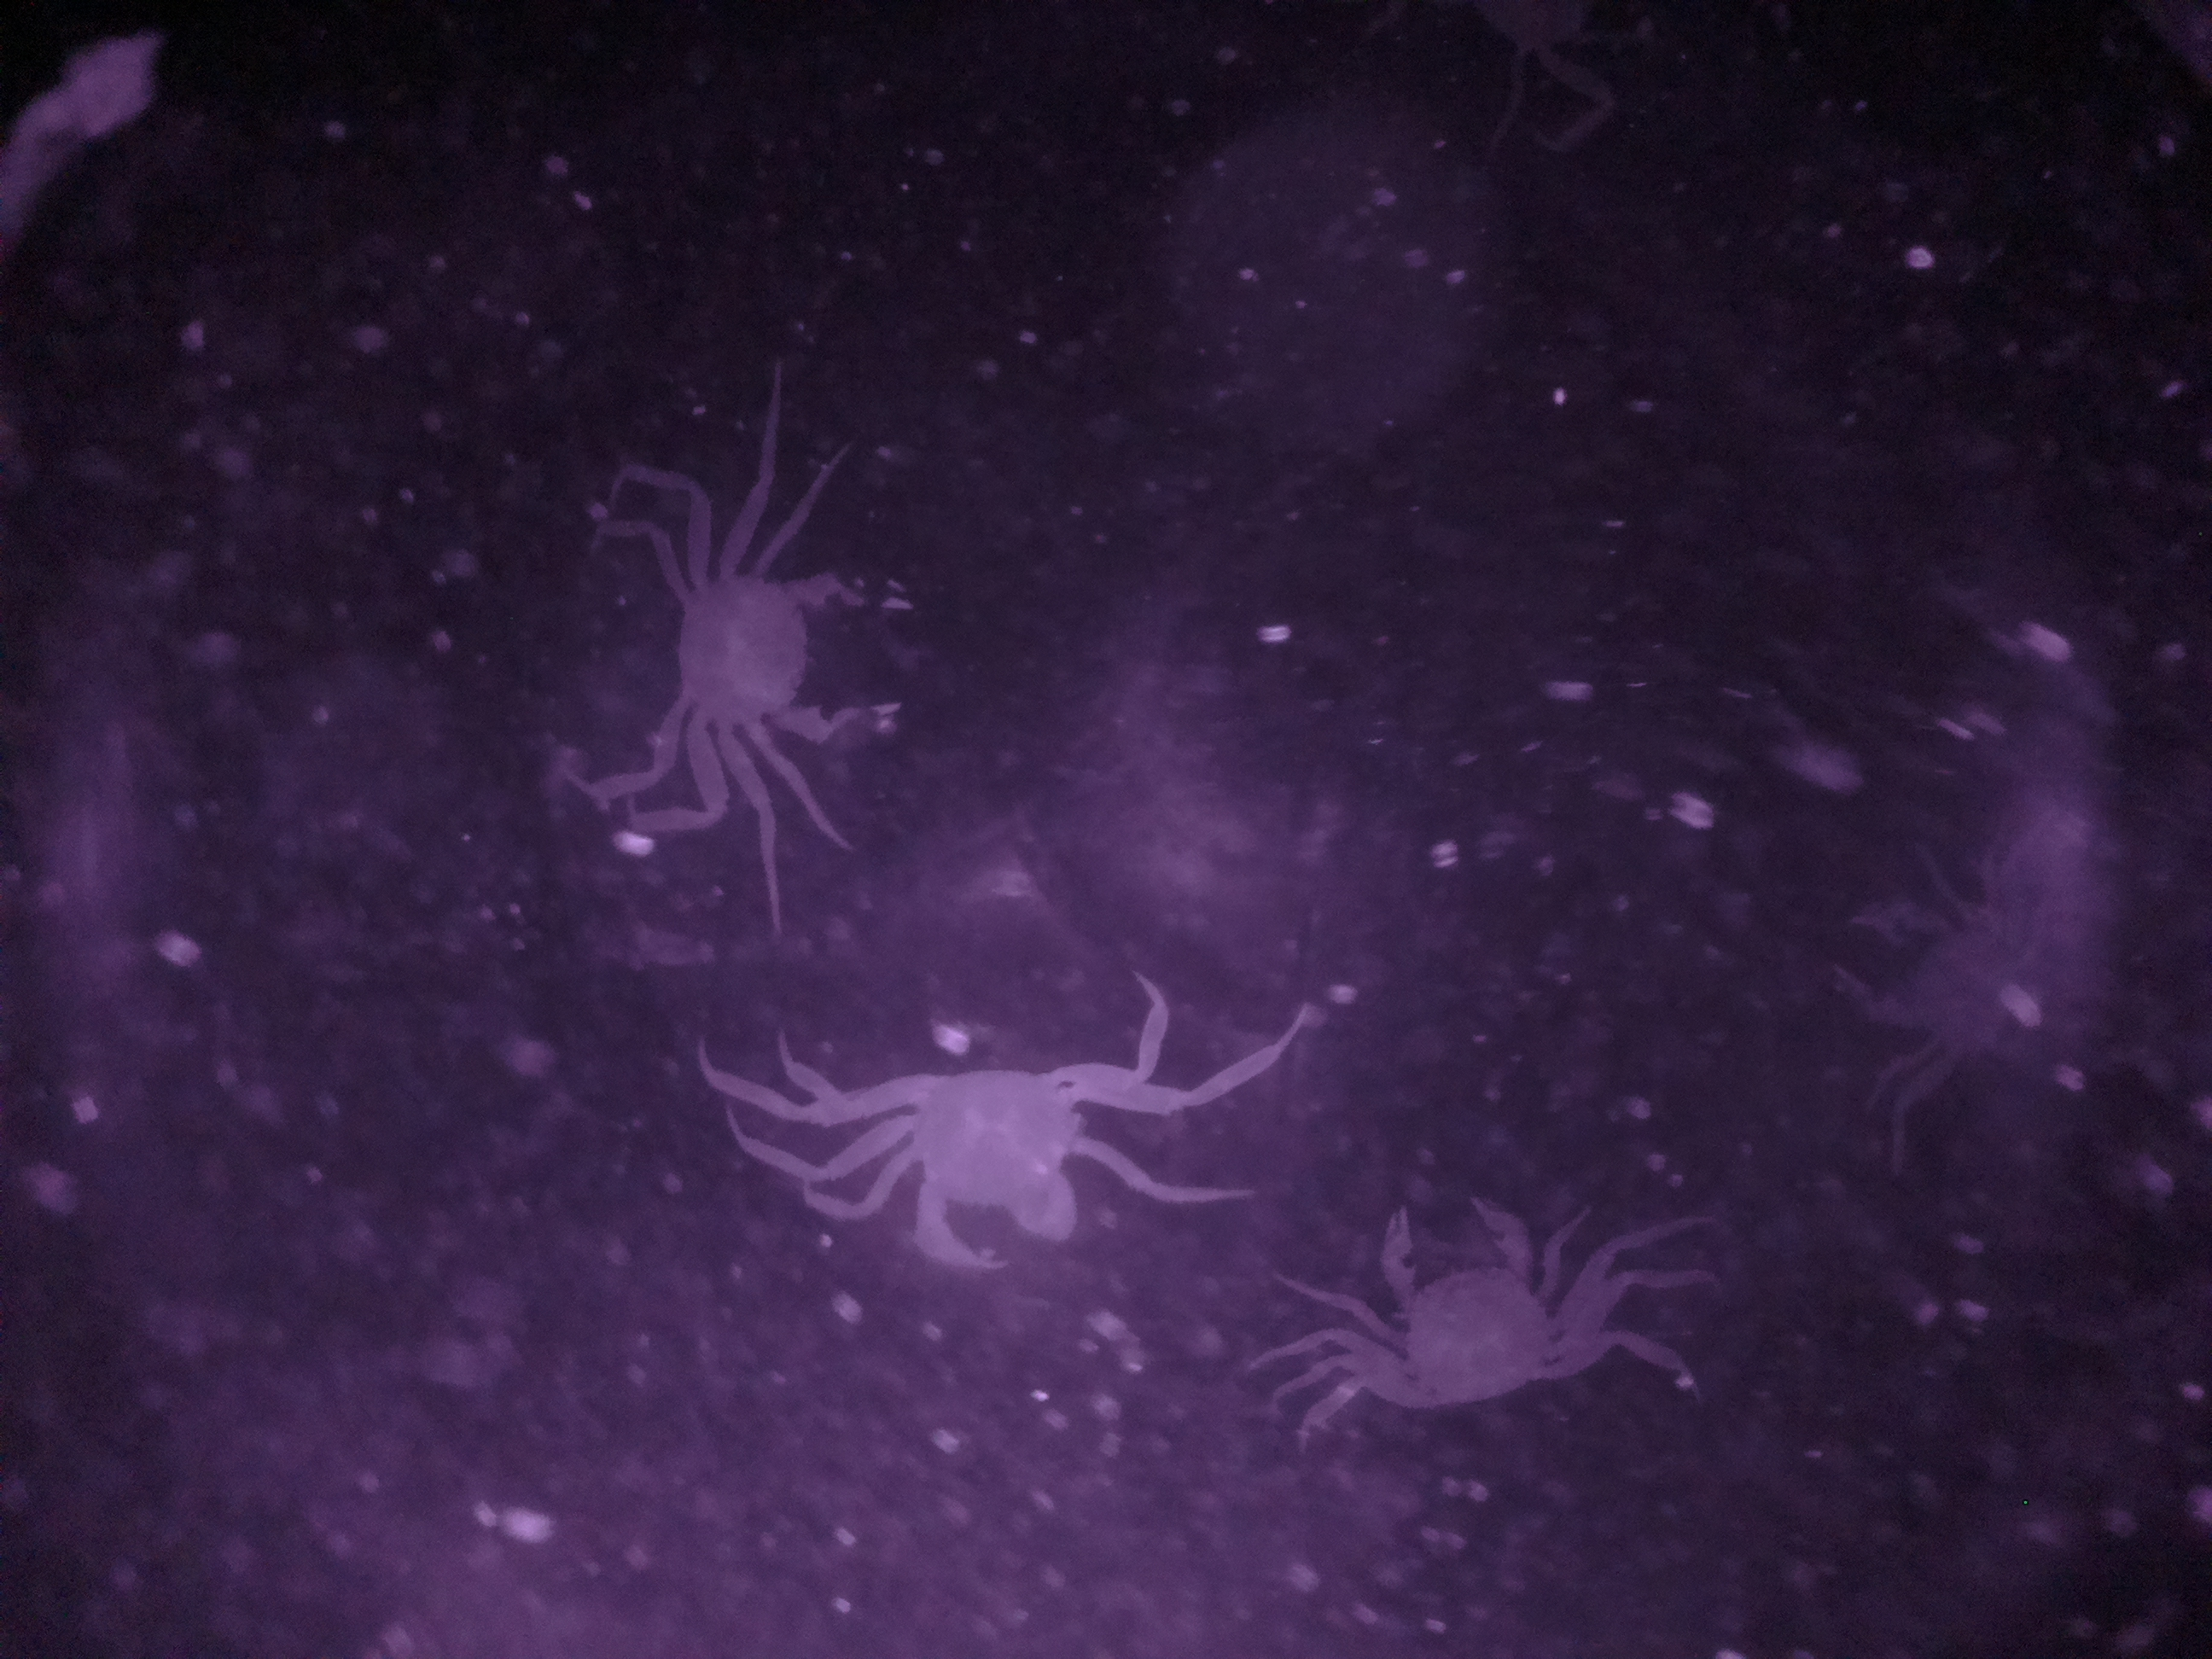Crab: (644, 533, 979, 784), (855, 1016, 1129, 1303), (1329, 1178, 1608, 1429)
